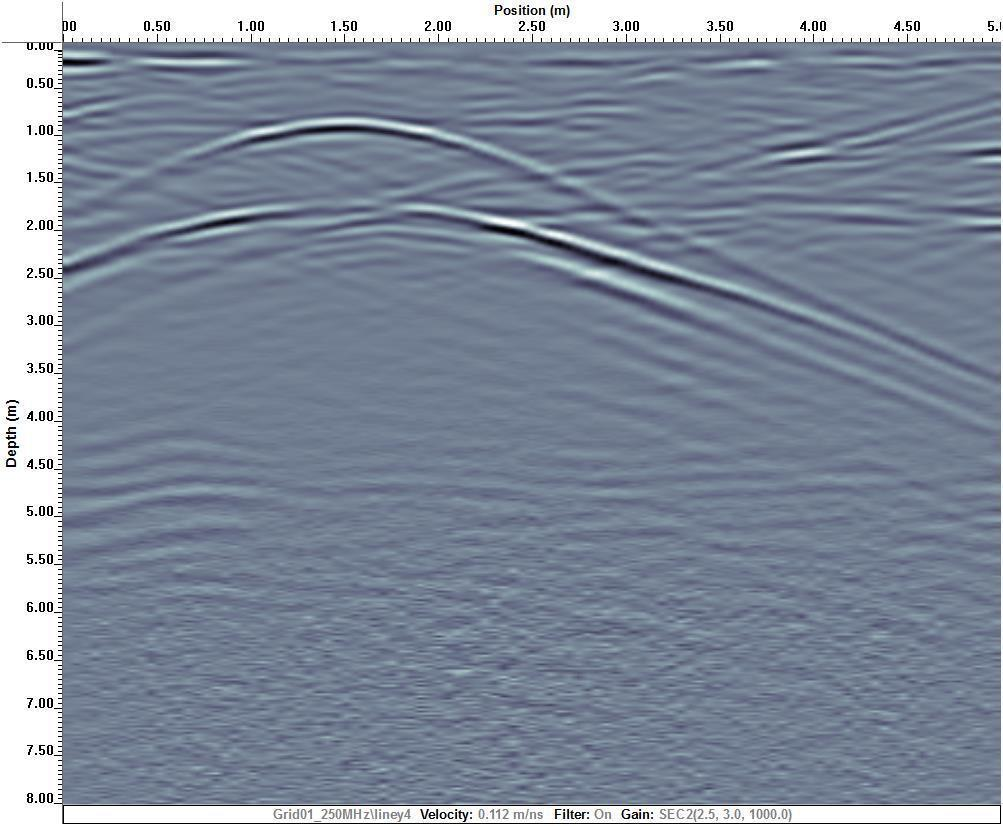hyperbola: (74, 185, 612, 295), (180, 98, 511, 187)
